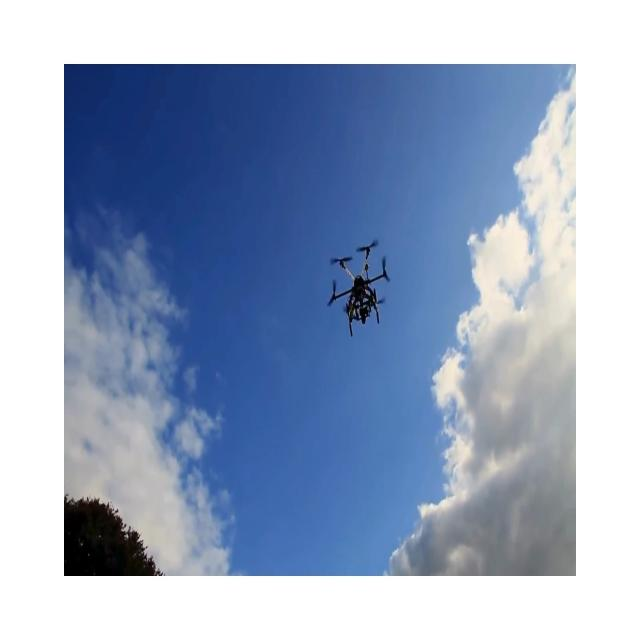drone: (327, 238, 390, 337)
